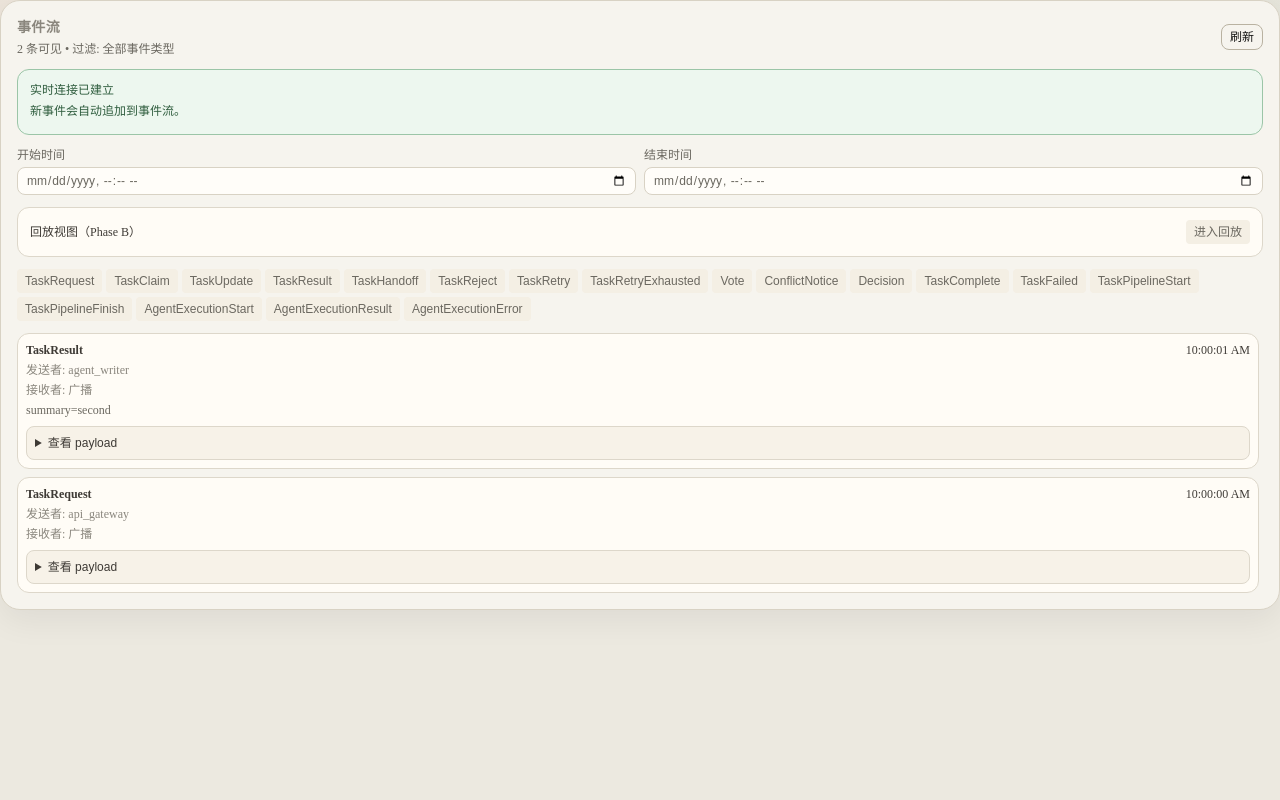
Scenario: EventStream replay › toggles replay mode and shows replay controls
Click the button with test id "event-replay-toggle" at (1218, 232), box [1186,220,1250,244]
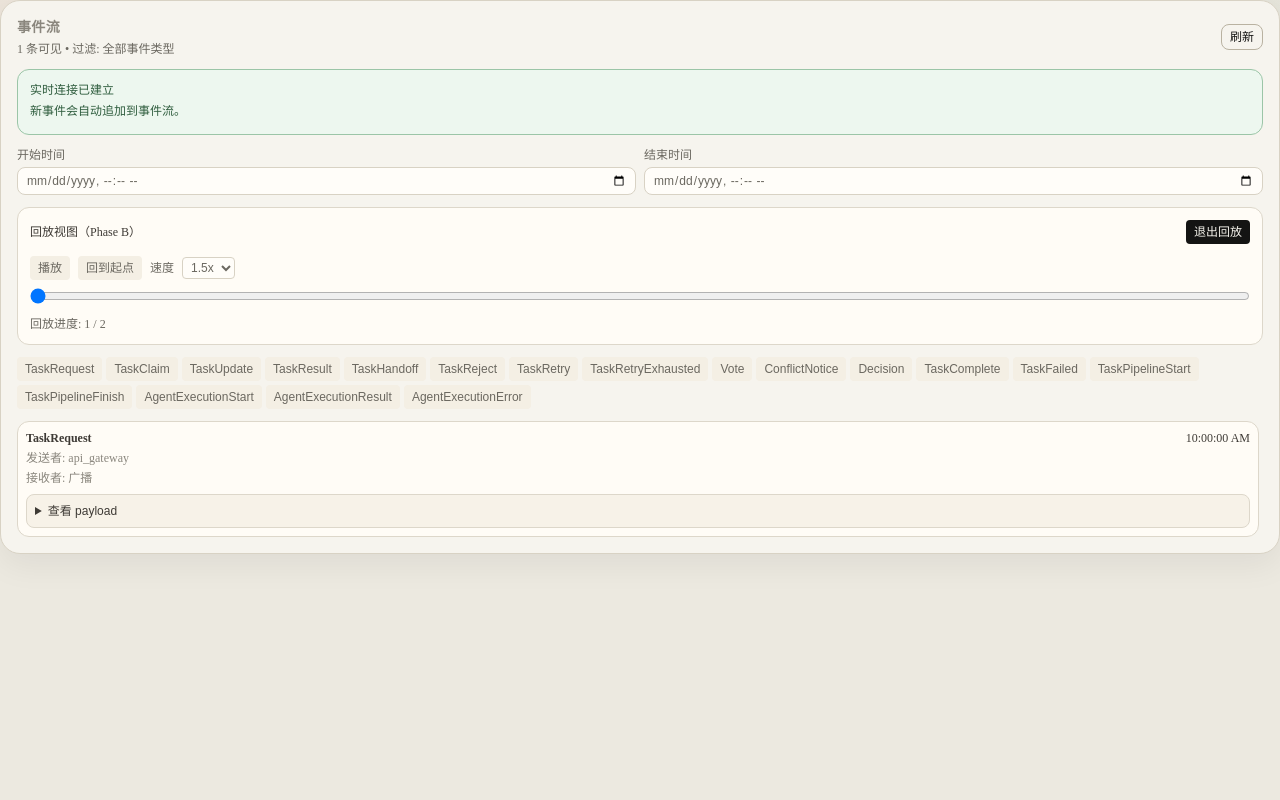
Now the button with test id "event-replay-play" is shown, box [30,256,70,280]
Now the slider with test id "event-replay-seek" is shown, box [30,288,1250,304]
